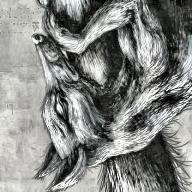boar: (31, 0, 192, 192)
